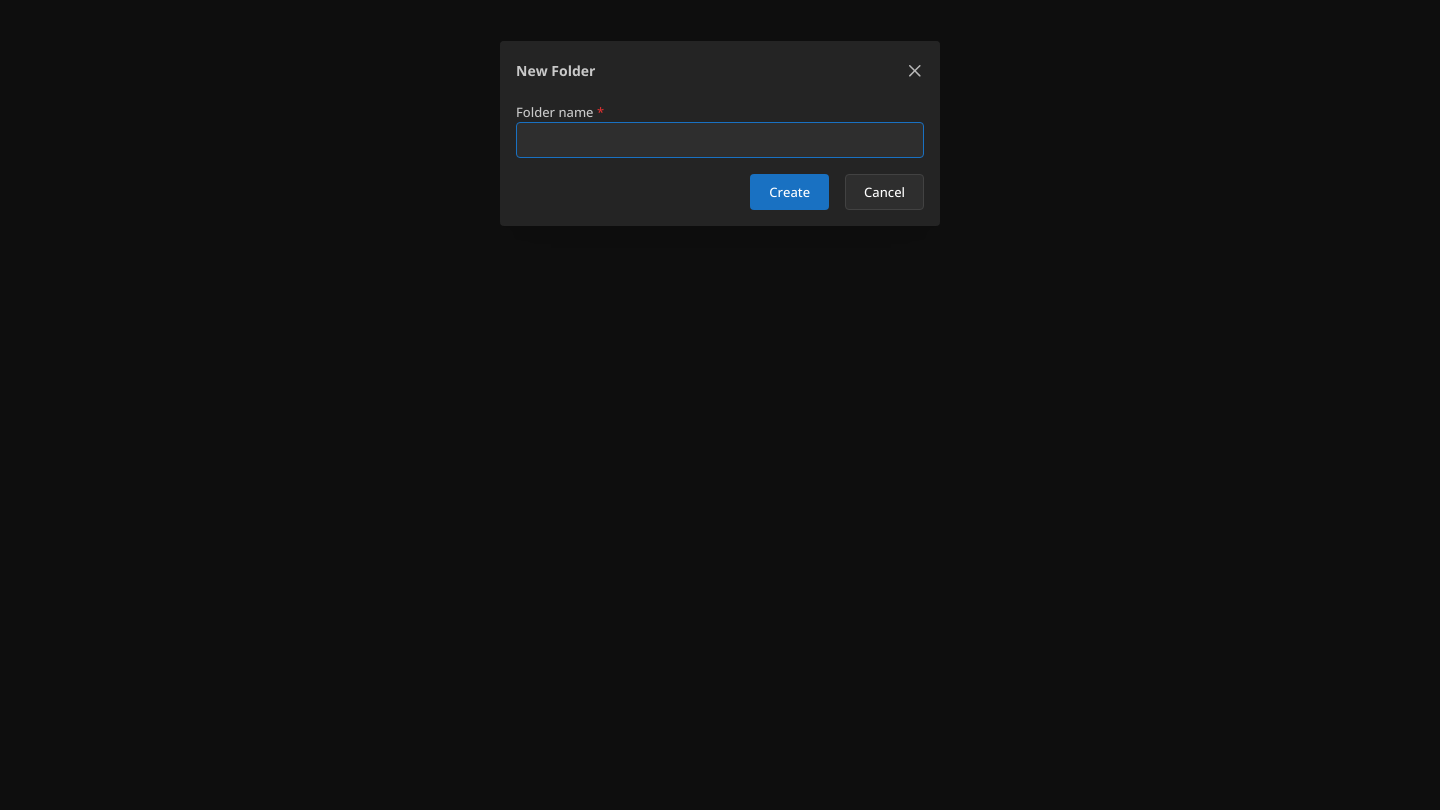
it: NewFolderModal › displays an error if fails to create a folder
The width and height of the screenshot is (1440, 810).
Step 1. Type "Test Folder" into the field labelled "Folder name" → (720, 140), box [516, 122, 924, 158]
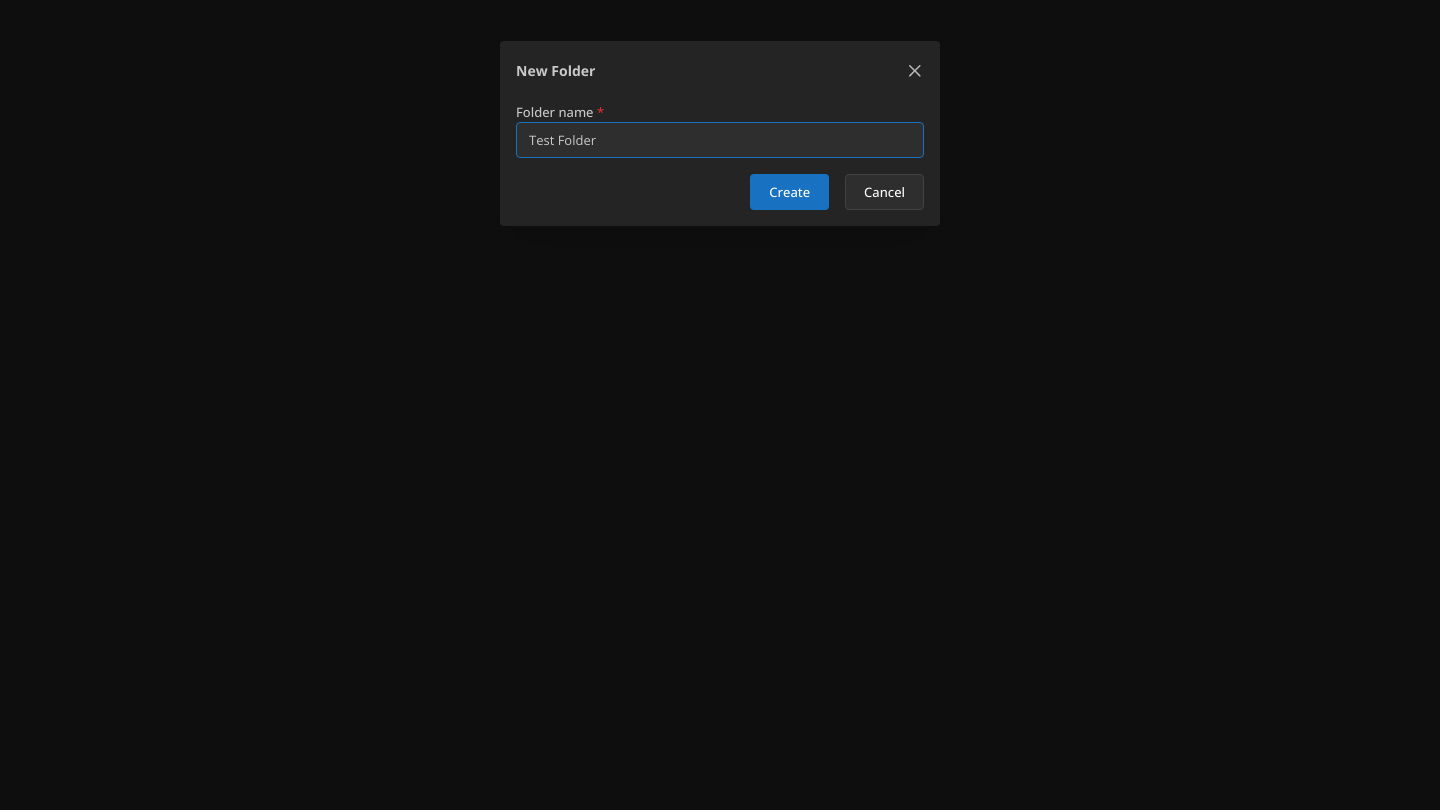
Step 2. Click the button "Create" → (790, 192), box [750, 174, 829, 210]
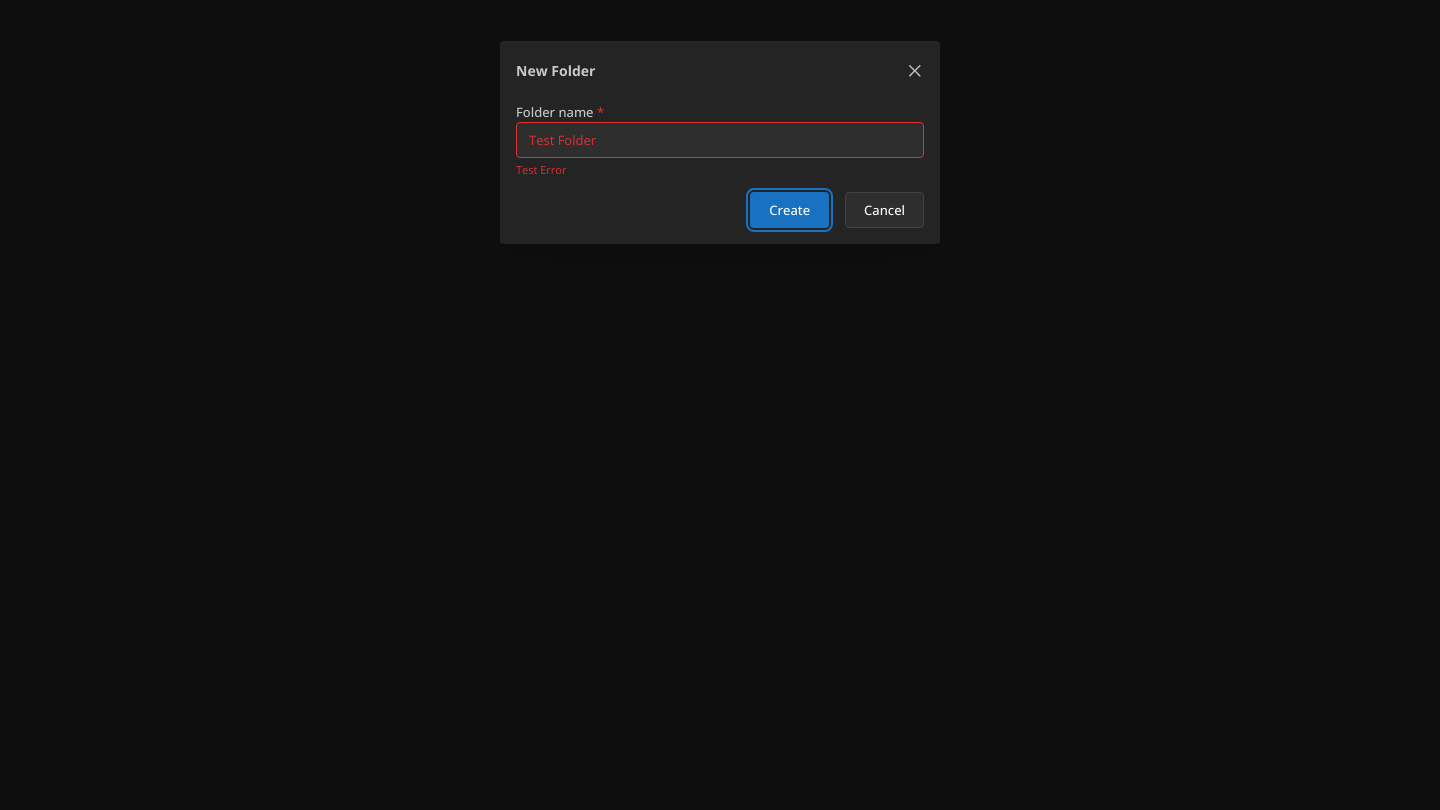
Expected: the text "Test Error" is shown, [516, 162, 566, 177]
